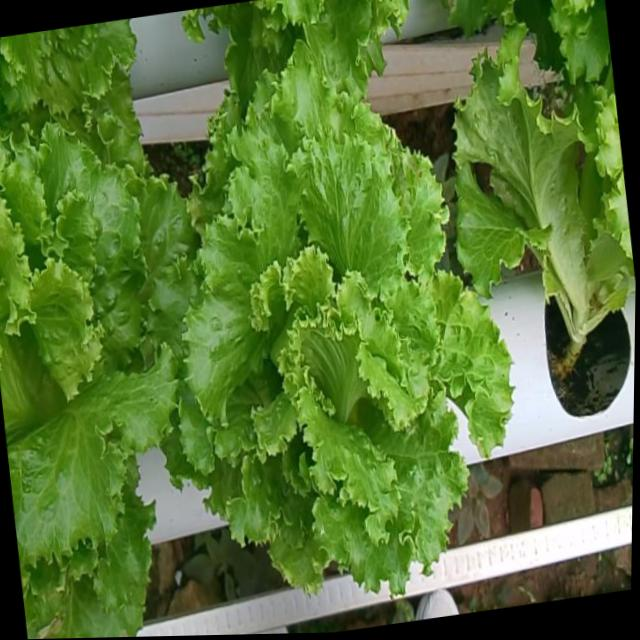Mature: (172, 75, 505, 603), (0, 132, 189, 580)
